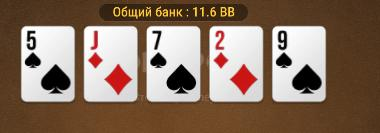2d: (210, 27, 262, 102)
5s: (22, 27, 74, 102)
7s: (147, 27, 200, 100)
9s: (273, 27, 326, 101)
Jd: (84, 27, 137, 101)
